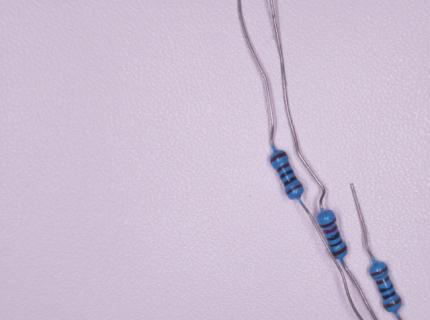Black band: (283, 175, 297, 187), (280, 169, 294, 179), (379, 284, 394, 293), (383, 291, 396, 299)
Brown band: (286, 183, 303, 195), (384, 297, 401, 309), (370, 266, 388, 277), (271, 152, 287, 163), (276, 162, 289, 173), (376, 276, 390, 285)
